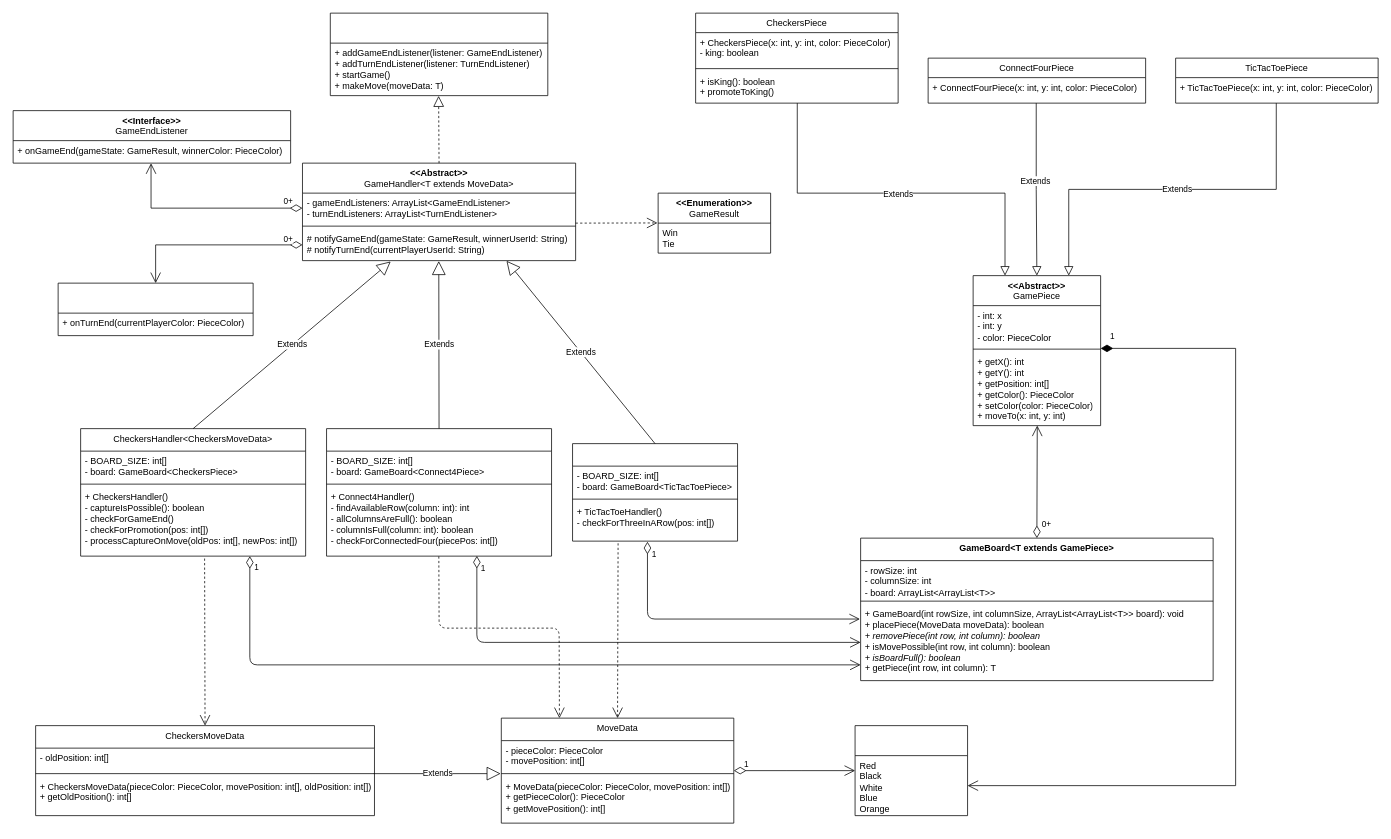
Image size: 1391x839. Some labels were removed from this diagram. Here are the shapes that lost their labels. From the top down, the box of each, then its label:
(330, 12, 548, 96): <<Interface>> IGameHandler<T extends MoveData>
(57, 282, 253, 336): <<Interface>> TurnEndListener
(326, 428, 552, 556): Connect4Handler<MoveData>
(572, 443, 738, 541): TicTacToeHandler<MoveData>
(854, 725, 968, 816): <<Enumeration>> PieceColor
